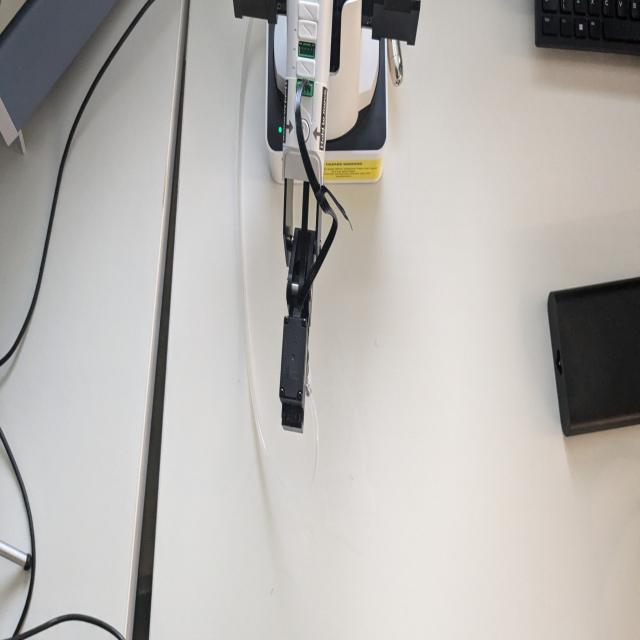Robot-end-effector-HF8z: (277, 307, 315, 440)
